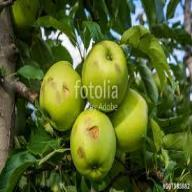apple: (69, 106, 115, 178), (85, 42, 126, 114), (39, 61, 82, 128), (111, 88, 147, 148)
